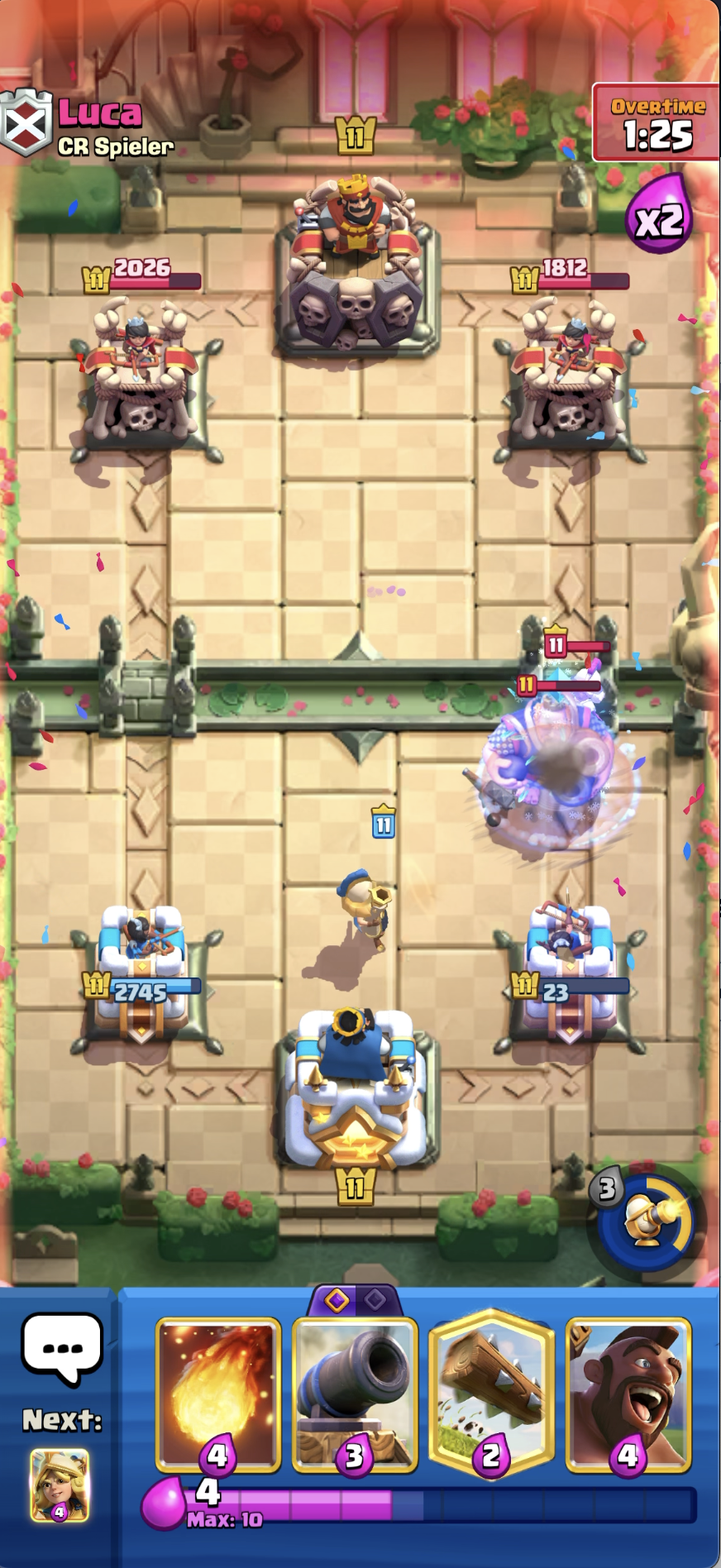royal-giant: (462, 672, 663, 853)
